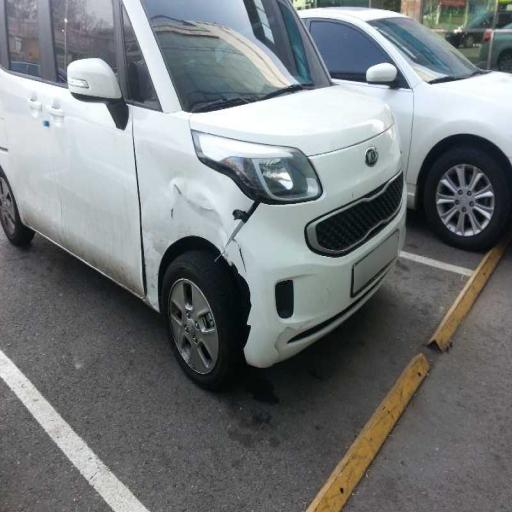broken: (148, 144, 284, 331)
